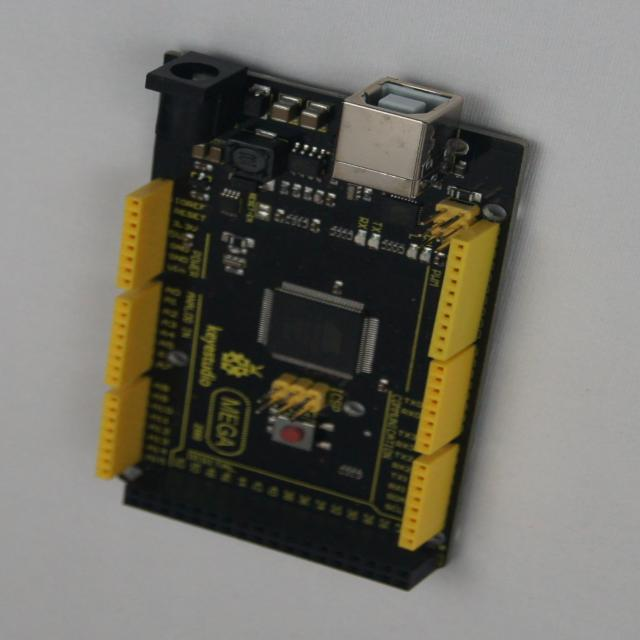Arduino Mega 2560 -Yellow-: (97, 52, 525, 589)
